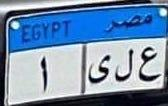1: (36, 54, 54, 92)
ain: (139, 43, 161, 83)
laam: (113, 48, 135, 83)
yaa: (88, 52, 110, 85)
